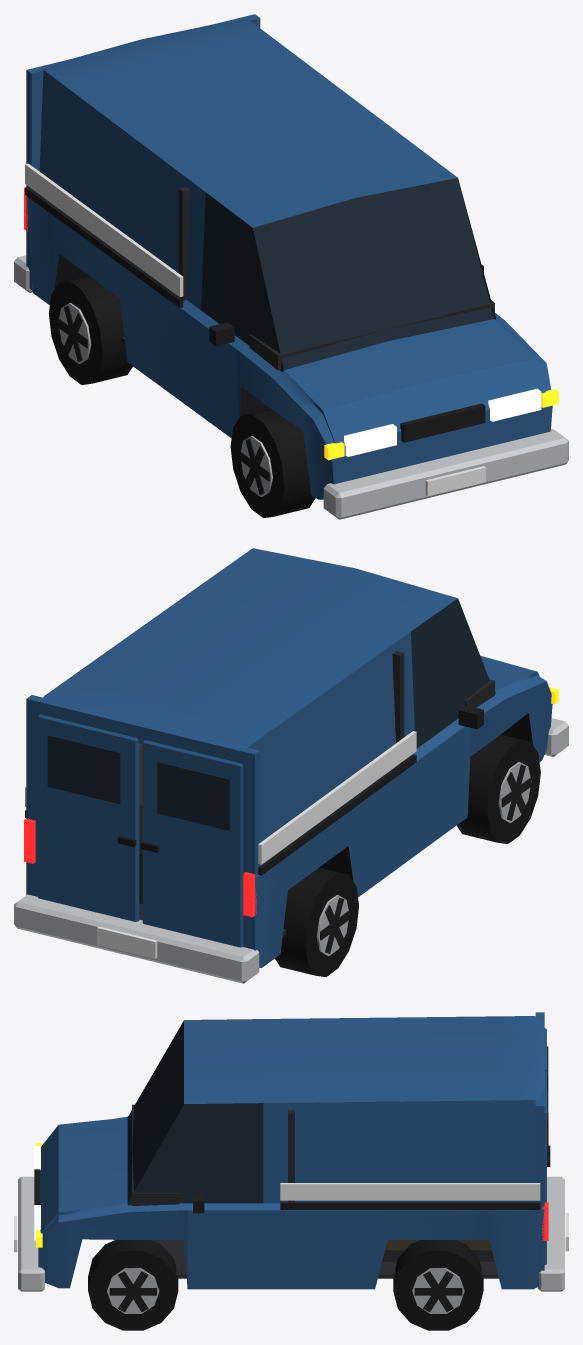
Rendered from van.glb.
The picture shows the model from 3 angles, top to bottom: view 1: azimuth 30°, elevation 25°; view 2: azimuth 150°, elevation 25°; view 3: azimuth 270°, elevation 25°; orthographic projection. The views are drawn at different scales.
Parts seen in each view (by area): view 1: van_body, van_door_r, van_wheel_fr, van_wheel_rr; view 2: van_body, van_door_bl, van_door_br, van_door_r, van_wheel_rr, van_wheel_fr; view 3: van_body, van_door_l, van_wheel_fl, van_wheel_rl, van_door_bl.
Boxes of the visible parts, x1,y1,x2,y2 form: van_body: (14,14,568,519); van_door_r: (189,191,250,438); van_wheel_fr: (230,408,315,517); van_wheel_rr: (48,275,132,384); van_body: (14,548,568,983); van_door_bl: (37,714,139,921); van_door_br: (140,740,243,947); van_door_r: (409,600,483,851); van_wheel_rr: (275,867,358,976); van_wheel_fr: (457,734,540,843); van_body: (14,1012,568,1291); van_door_l: (187,1103,266,1289); van_wheel_fl: (88,1240,178,1330); van_wheel_rl: (393,1240,483,1330); van_door_bl: (544,1071,550,1264).
Bounding box in the file's own units: 2.3 × 2.19 × 4.91.
